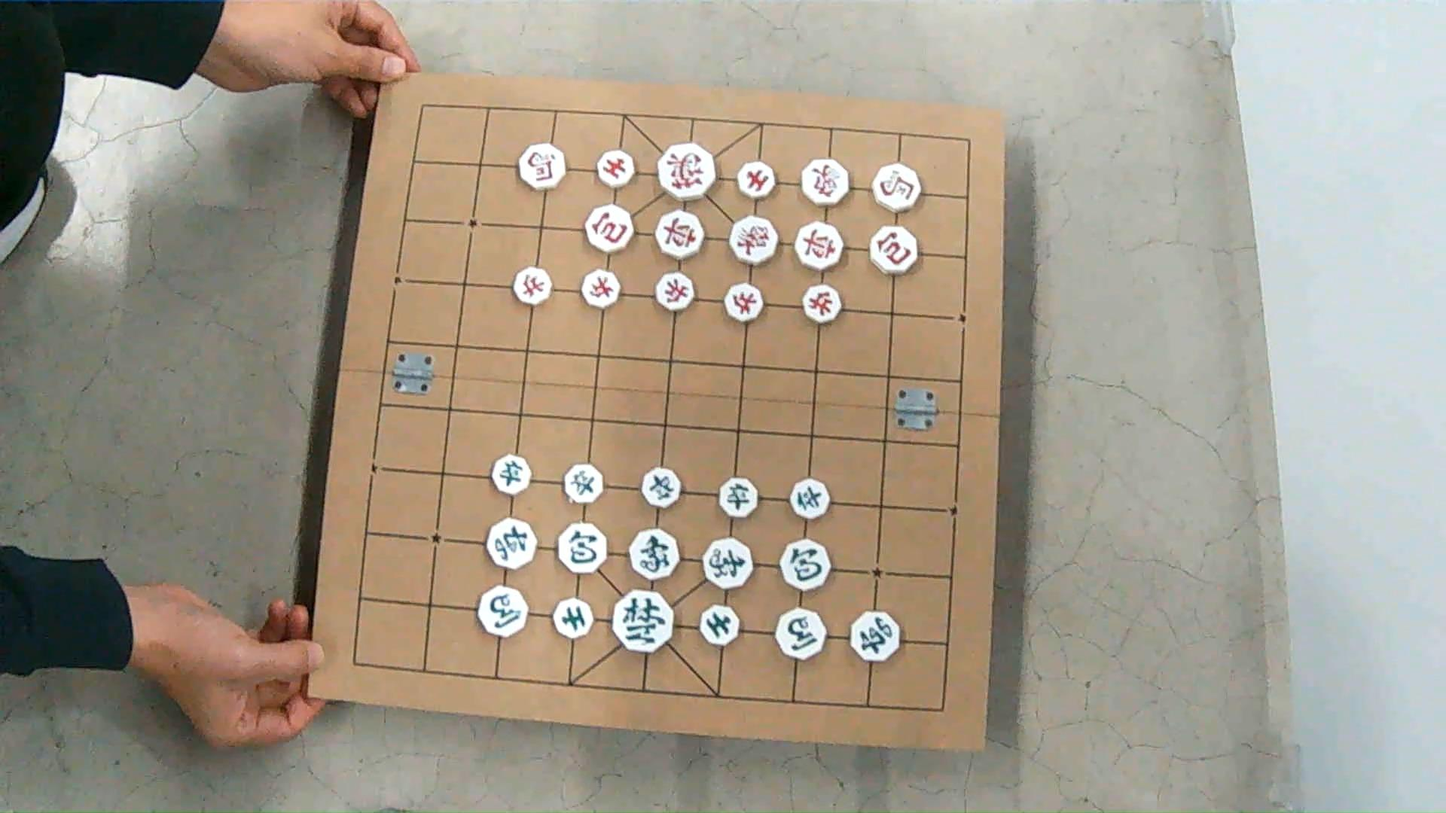cha_green: (850, 611, 899, 662), (486, 519, 535, 569)
cha_red: (655, 211, 703, 260), (795, 222, 843, 270)
jol_green: (718, 477, 758, 518), (492, 454, 530, 495), (564, 464, 602, 504), (791, 479, 829, 519), (642, 468, 680, 507)
jol_red: (581, 269, 620, 308), (803, 285, 841, 324), (655, 273, 694, 311), (513, 266, 551, 305), (725, 284, 763, 321)
ma_green: (477, 586, 527, 637), (776, 609, 825, 659)
ma_red: (872, 163, 919, 212), (518, 144, 566, 190)
po_green: (557, 522, 606, 574), (781, 540, 830, 591)
po_red: (584, 205, 632, 253), (868, 227, 917, 274)
sa_green: (700, 605, 738, 646), (554, 598, 592, 638)
sa_red: (596, 150, 635, 188), (737, 161, 775, 199)
sang_green: (629, 528, 679, 580), (702, 538, 752, 589)
sang_red: (730, 216, 776, 265), (801, 159, 848, 206)
wang_green: (612, 589, 673, 653)
wang_red: (658, 142, 715, 201)
